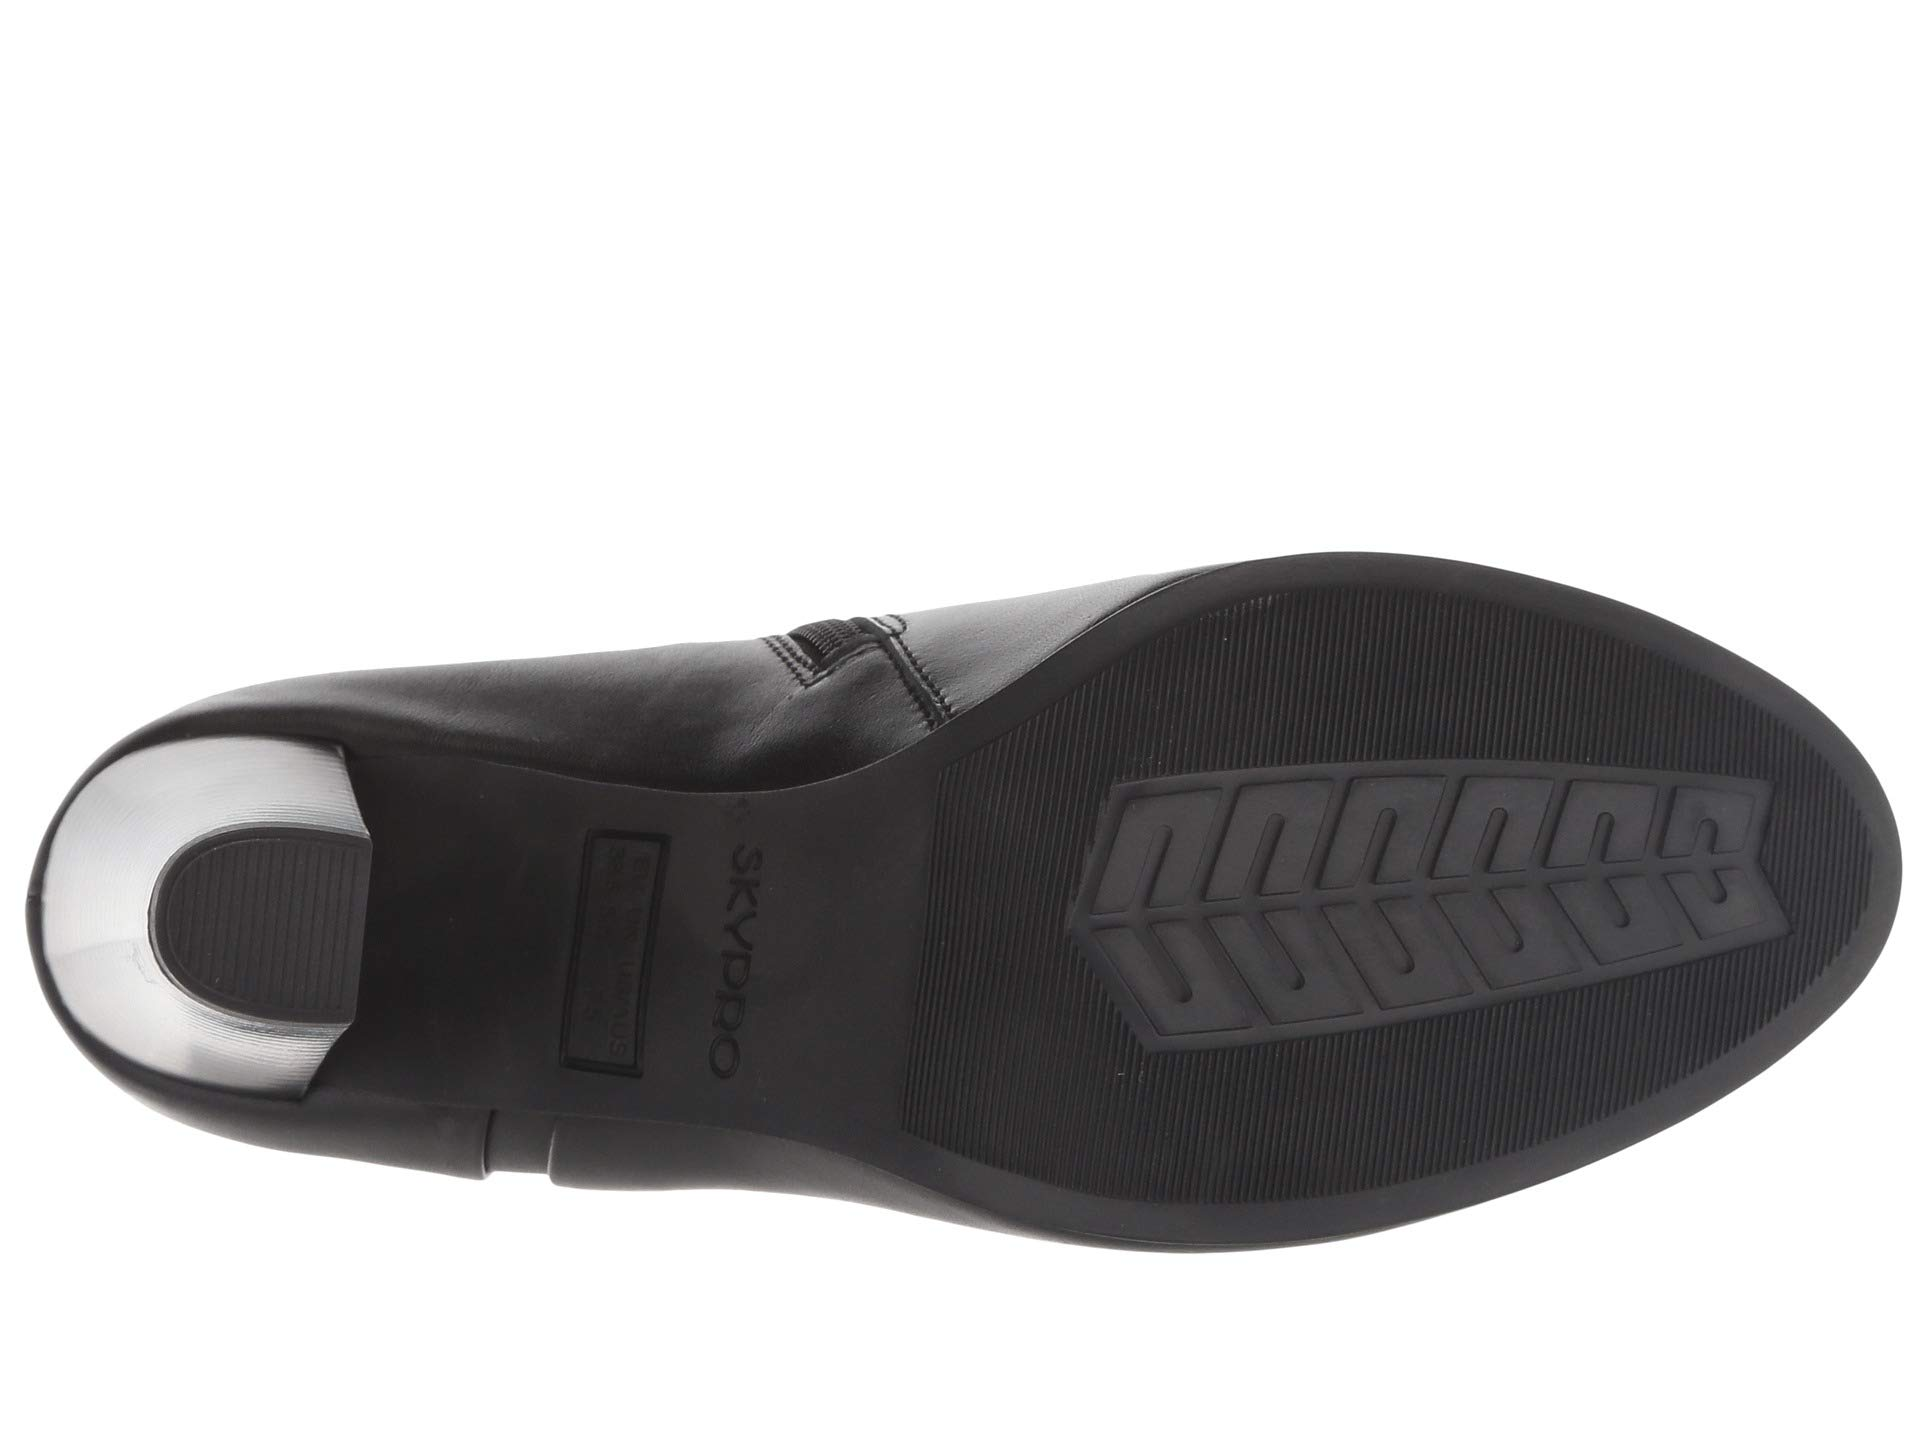line: (1107, 628, 1586, 755), (951, 750, 1073, 1137), (1164, 1032, 1430, 1195), (1494, 997, 1628, 1115), (1788, 782, 1847, 924), (1665, 964, 1731, 1041)
